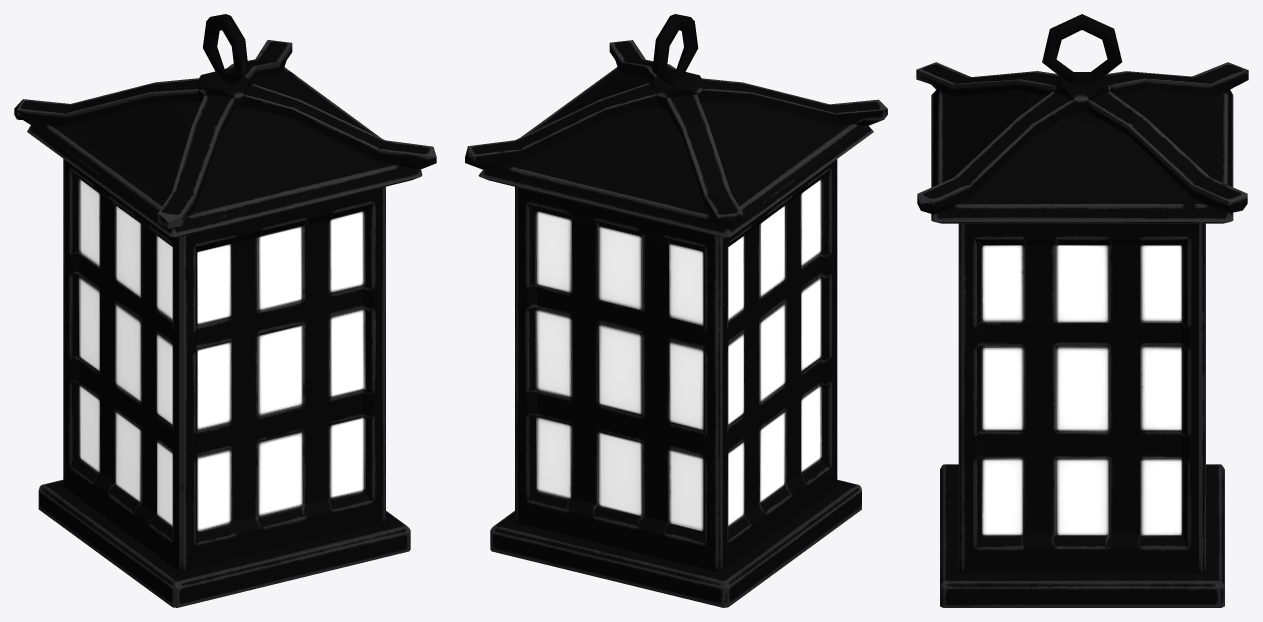
Rendered from lantern06.fbx.
The picture shows the model from 3 angles, left to right: view 1: azimuth 30°, elevation 25°; view 2: azimuth 150°, elevation 25°; view 3: azimuth 270°, elevation 25°; orthographic projection. The views are drawn at different scales.
Parts seen in each view (by area): view 1: lantern06; view 2: lantern06; view 3: lantern06.
Boxes of the visible parts, <box> form: lantern06: <box>14,14,436,607</box>; lantern06: <box>465,14,887,607</box>; lantern06: <box>916,14,1248,607</box>.
Size of the model in its own units: 112 by 200 by 113.
1 material, 1 textured.
